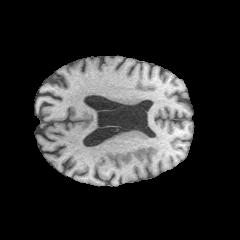glioma: (100, 147, 151, 168)
